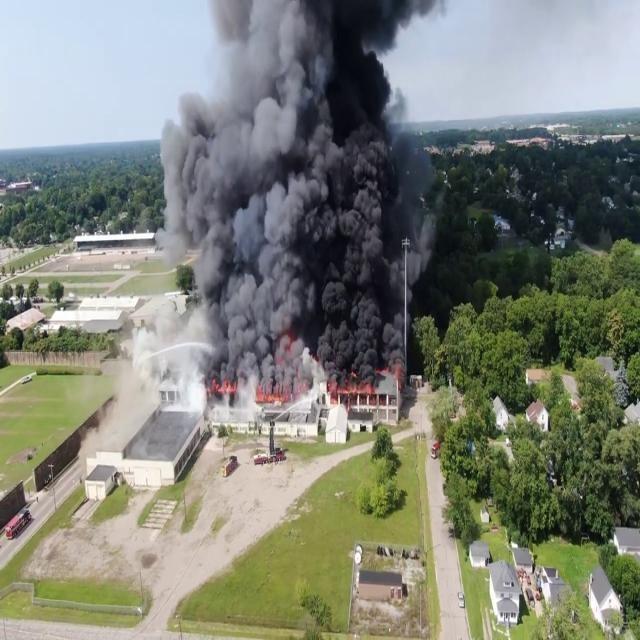Smoke: (131, 0, 483, 373)
